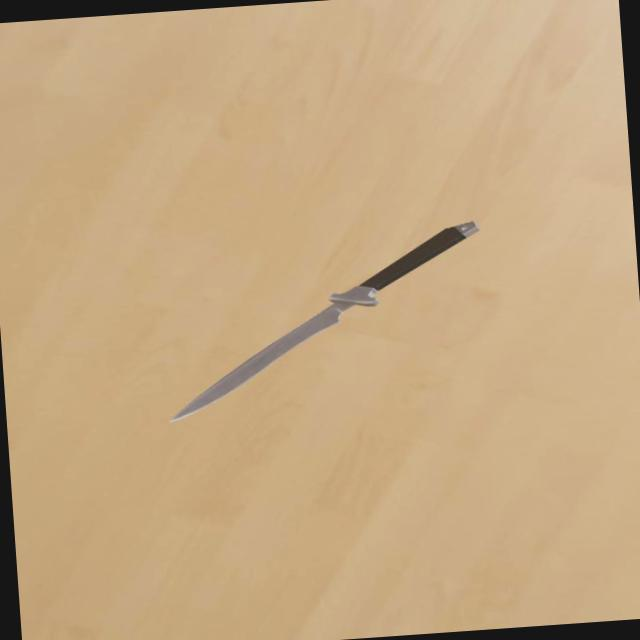knife: (354, 220, 481, 290)
